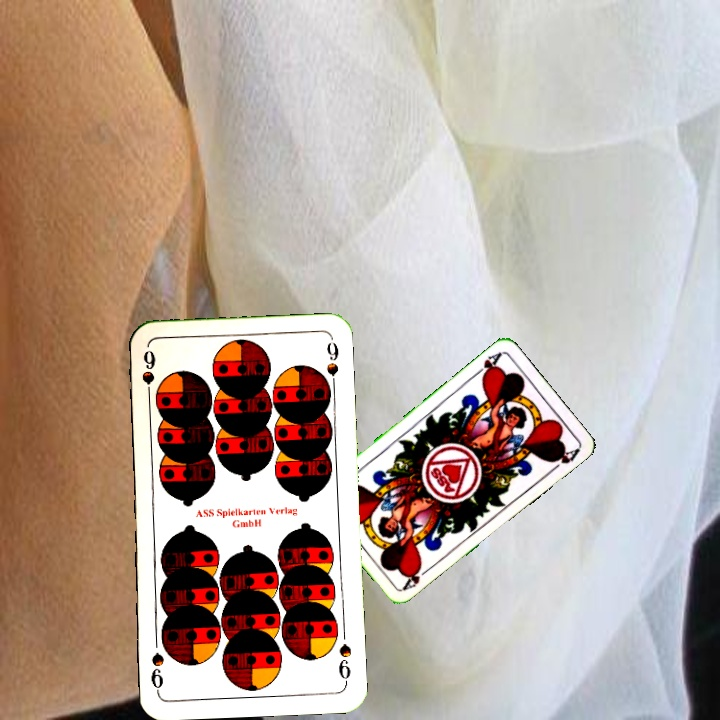HA: (470, 348, 504, 382), (399, 562, 434, 592)
S9: (137, 345, 158, 404), (334, 639, 354, 687)
